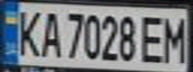0: (81, 10, 103, 61)
2: (100, 11, 121, 62)
7: (63, 8, 84, 60)
8: (118, 11, 142, 63)
A: (36, 7, 63, 58)
E: (136, 11, 169, 64)
K: (12, 6, 45, 57)
M: (160, 11, 193, 64)
